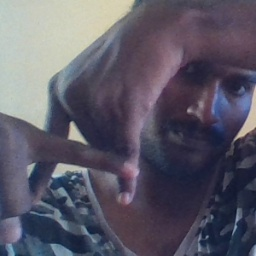H: (17, 81, 157, 209)
